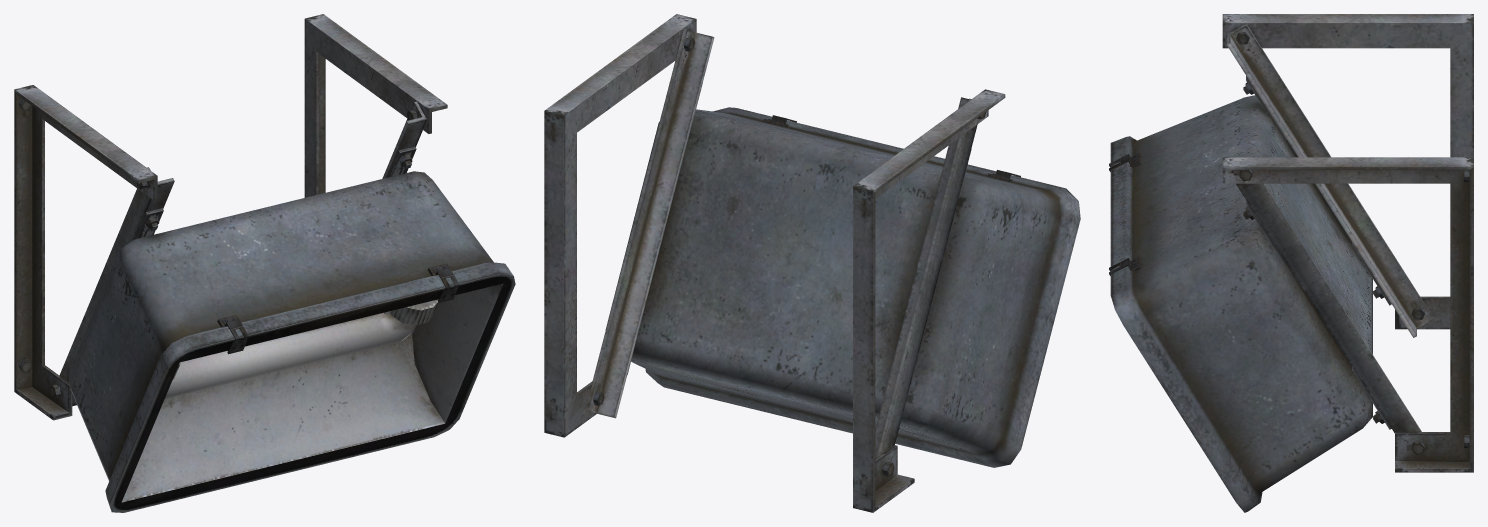
Rendered from sm35_013_WallLight.fbx.
3 views of the same model, side by side, from view 1: azimuth 30°, elevation 25°; view 2: azimuth 150°, elevation 25°; view 3: azimuth 270°, elevation 25° (orthographic). The views are drawn at different scales.
Visible parts, largest first — view 1: LOD_1_Group_0_Sub_2__sm35_013_WallLight01A_A_Mat__Env_defaul, LOD_1_Group_0_Sub_1__sm35_013_WallLight01A_A_Mat__Env_Emissi; view 2: LOD_1_Group_0_Sub_2__sm35_013_WallLight01A_A_Mat__Env_defaul; view 3: LOD_1_Group_0_Sub_2__sm35_013_WallLight01A_A_Mat__Env_defaul.
Boxes of the visible parts, x1=… form: LOD_1_Group_0_Sub_2__sm35_013_WallLight01A_A_Mat__Env_defaul: x1=14, y1=14, x2=515, y2=512; LOD_1_Group_0_Sub_1__sm35_013_WallLight01A_A_Mat__Env_Emissi: x1=165, y1=312, x2=416, y2=398; LOD_1_Group_0_Sub_2__sm35_013_WallLight01A_A_Mat__Env_defaul: x1=544, y1=14, x2=1080, y2=512; LOD_1_Group_0_Sub_2__sm35_013_WallLight01A_A_Mat__Env_defaul: x1=1109, y1=14, x2=1473, y2=512.
Bounding box in the file's own units: 0.5303 × 0.4948 × 0.4738.
